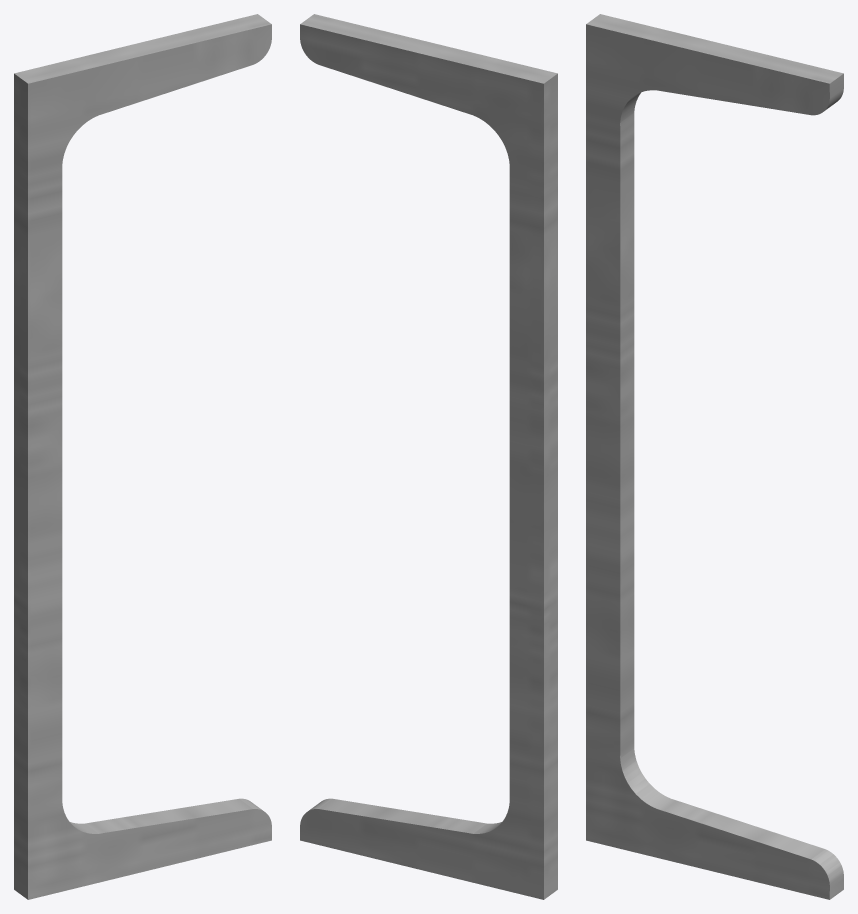
File: UPN320.glb
3 renders of one model, left to right at view 1: azimuth 30°, elevation 25°; view 2: azimuth 150°, elevation 25°; view 3: azimuth 330°, elevation 25°, orthographic.
Size of the model in its own units: 10 by 32 by 1.
Materials: 1 (1 with a texture image).
